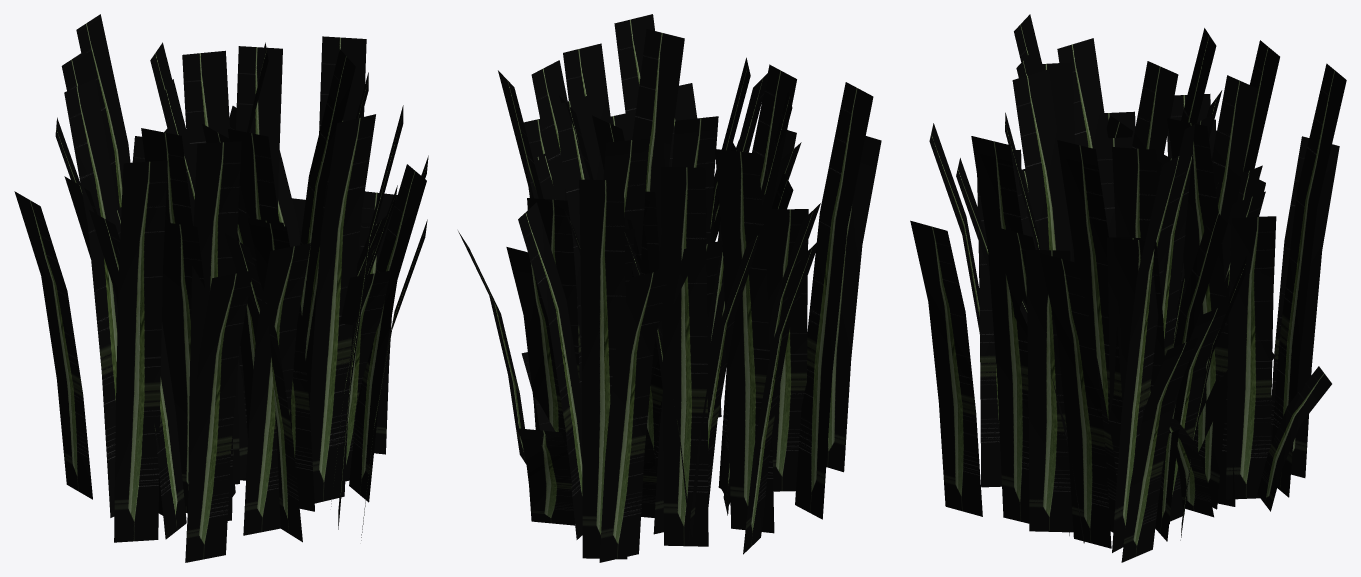
Rendered from SM_Grass_07.fbx.
3 renders of one model, left to right at view 1: azimuth 30°, elevation 25°; view 2: azimuth 150°, elevation 25°; view 3: azimuth 270°, elevation 25°, orthographic.
Parts seen in each view (by area): view 1: SM_Grass_07; view 2: SM_Grass_07; view 3: SM_Grass_07.
Boxes of the visible parts, left/top/right/bottom form: SM_Grass_07: left=14, top=14, right=428, bottom=562; SM_Grass_07: left=458, top=14, right=881, bottom=562; SM_Grass_07: left=910, top=14, right=1346, bottom=562.
Size of the model in its own units: 21.68 by 22.97 by 22.42.
